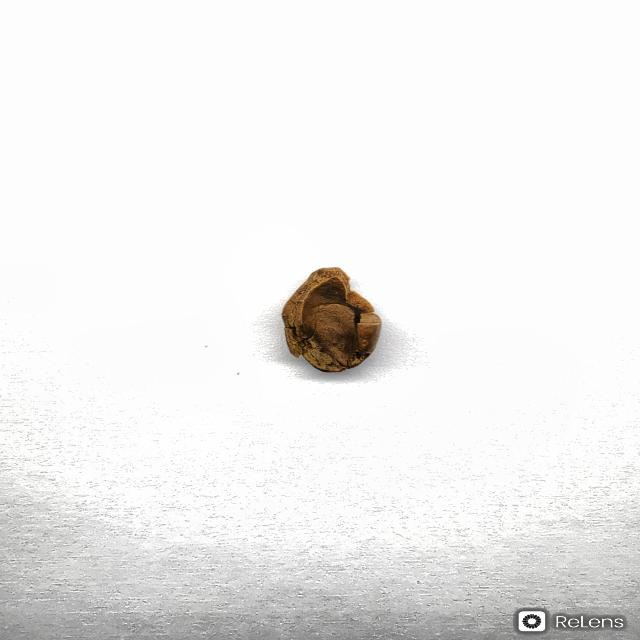Broken: (280, 266, 382, 373)
